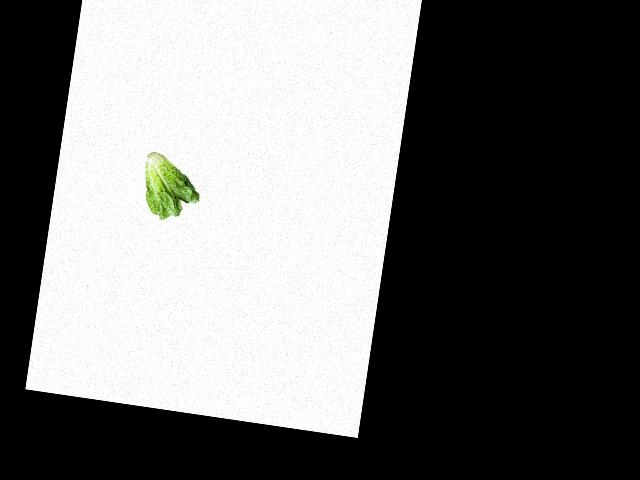lettuce: (132, 146, 208, 224)
